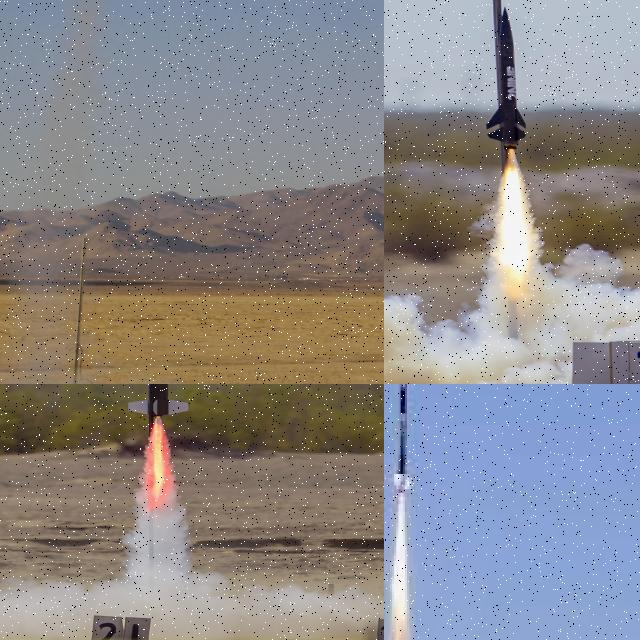Rocket: (486, 6, 527, 151), (391, 384, 415, 498), (127, 384, 189, 420)
